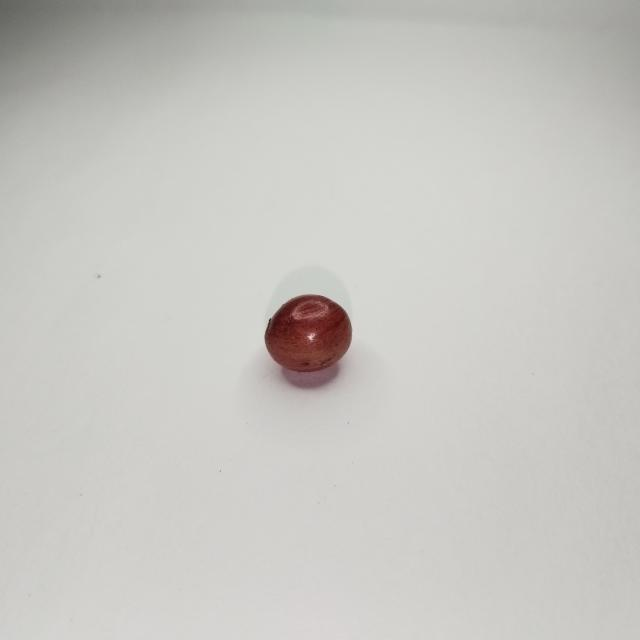Sano: (264, 294, 351, 374)
